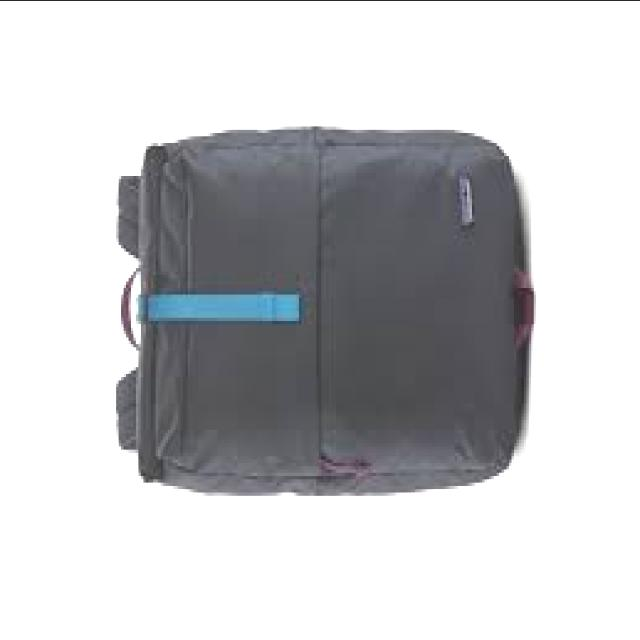backpack: (113, 127, 535, 500)
